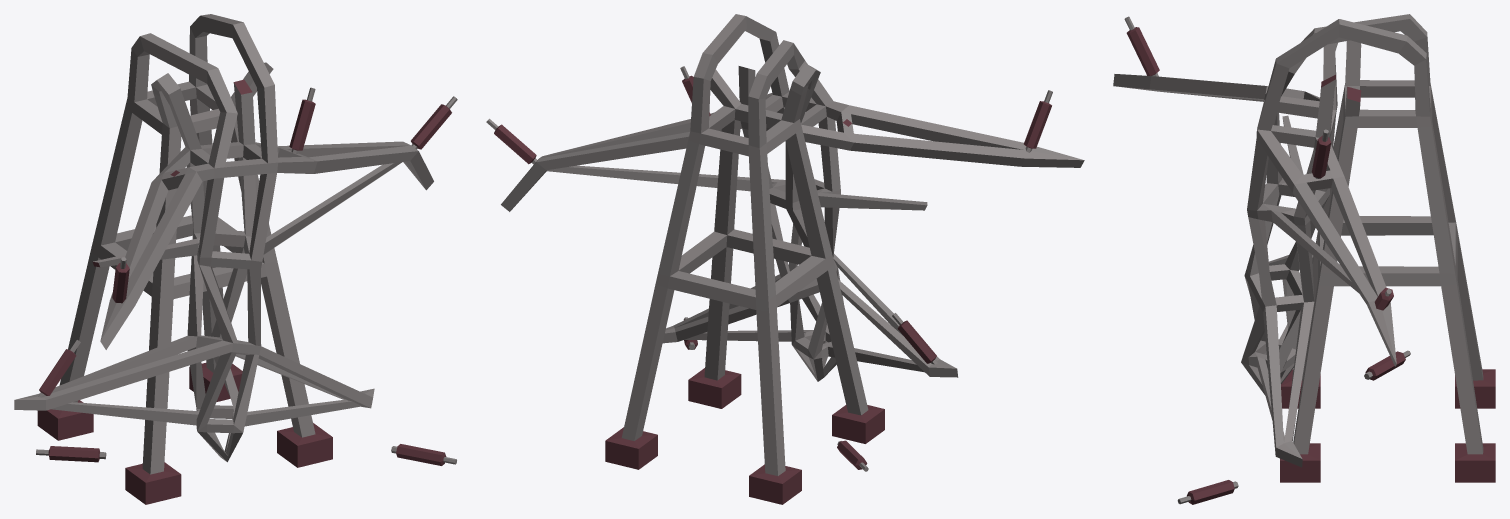
File: power-line-pole-apocalypse-c.fbx
3 renders of one model, left to right at view 1: azimuth 30°, elevation 25°; view 2: azimuth 150°, elevation 25°; view 3: azimuth 270°, elevation 25°, orthographic. The views are drawn at different scales.
Parts seen in each view (by area): view 1: power-line-pole-apocalypse-c; view 2: power-line-pole-apocalypse-c; view 3: power-line-pole-apocalypse-c.
Boxes of the visible parts, x1,y1,x2,y2 form: power-line-pole-apocalypse-c: [14, 14, 457, 504]; power-line-pole-apocalypse-c: [486, 14, 1084, 504]; power-line-pole-apocalypse-c: [1113, 14, 1495, 504].
Bounding box in the file's own units: 9.77 × 8.12 × 6.56.
